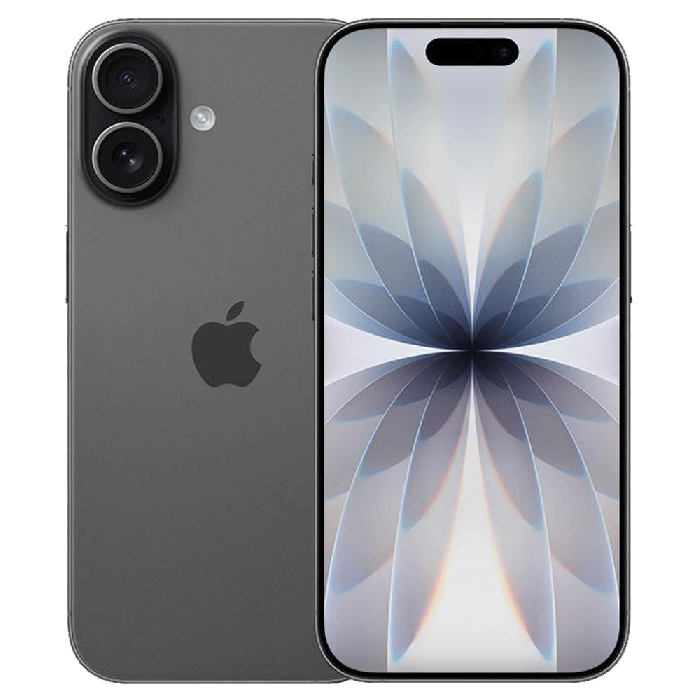IPHONE: (61, 7, 635, 689), (317, 13, 631, 688), (66, 6, 316, 689)
